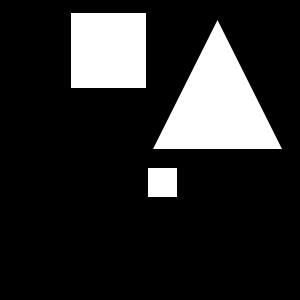circle: (71, 13, 146, 88), (148, 168, 177, 197)
triangle: (153, 20, 282, 149)
